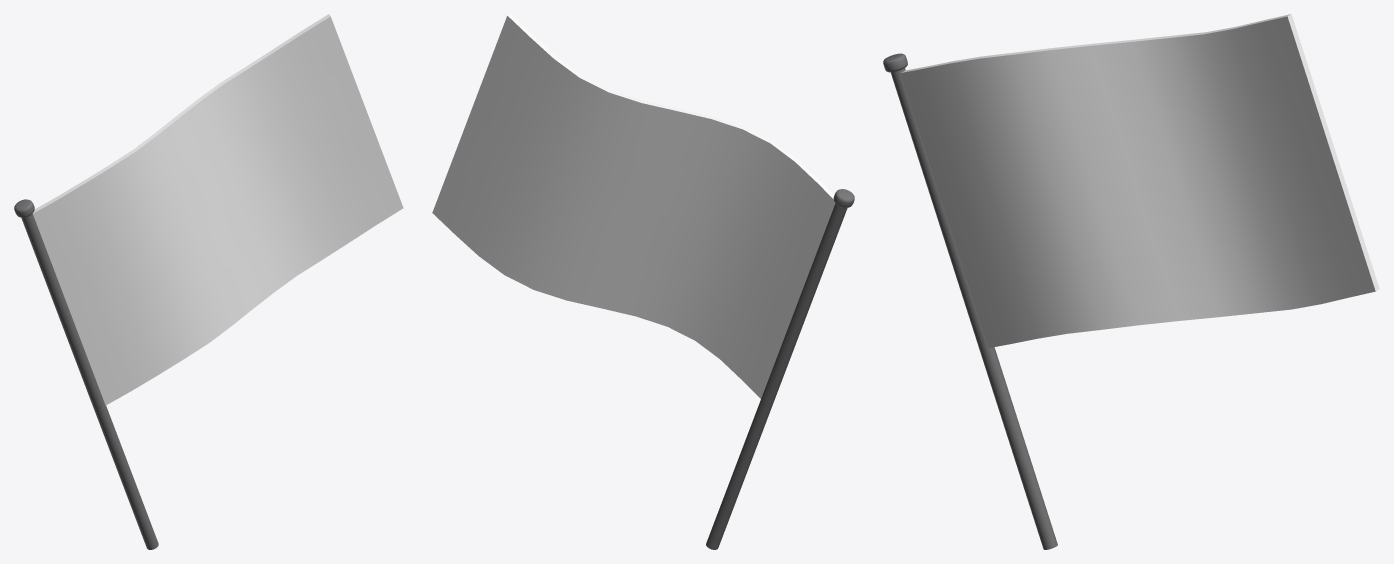
Rendered from white_flag.glb.
3 views of the same model, side by side, from view 1: azimuth 30°, elevation 25°; view 2: azimuth 150°, elevation 25°; view 3: azimuth 330°, elevation 25° (orthographic). The views are drawn at different scales.
Visible parts, largest first — view 1: Circle.2660; view 2: Circle.2660; view 3: Circle.2660.
Boxes of the visible parts, x1,y1,x2,y2 form: Circle.2660: (14,14,403,549); Circle.2660: (432,14,854,549); Circle.2660: (883,14,1379,549).
Bounding box in the file's own units: 2.07 × 2.39 × 0.2402.
Materials: 1 (1 with a texture image).
